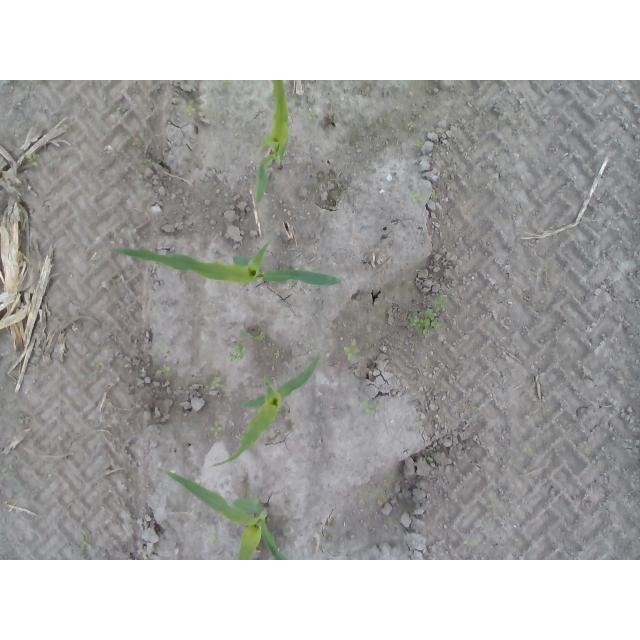Maize: (212, 352, 320, 466), (156, 468, 288, 560), (112, 239, 346, 289), (255, 81, 293, 204)
Weeds: (408, 295, 449, 338), (342, 339, 362, 362), (229, 345, 246, 364), (210, 422, 225, 439), (361, 400, 376, 416), (238, 328, 254, 343), (211, 376, 224, 391), (158, 366, 171, 378), (185, 104, 195, 116), (306, 112, 318, 121), (415, 138, 422, 148), (428, 457, 433, 464)
